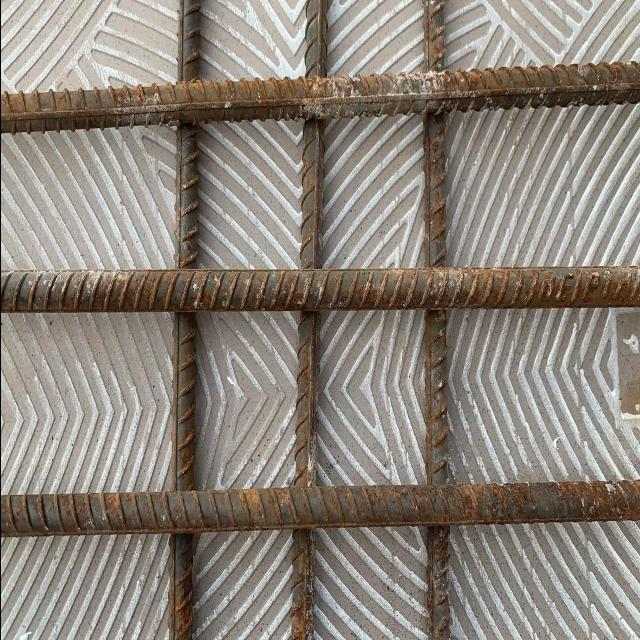ribbed bar: (1, 62, 640, 137), (1, 483, 640, 538), (1, 264, 640, 315), (289, 1, 329, 640), (171, 1, 201, 640), (422, 1, 450, 640)
